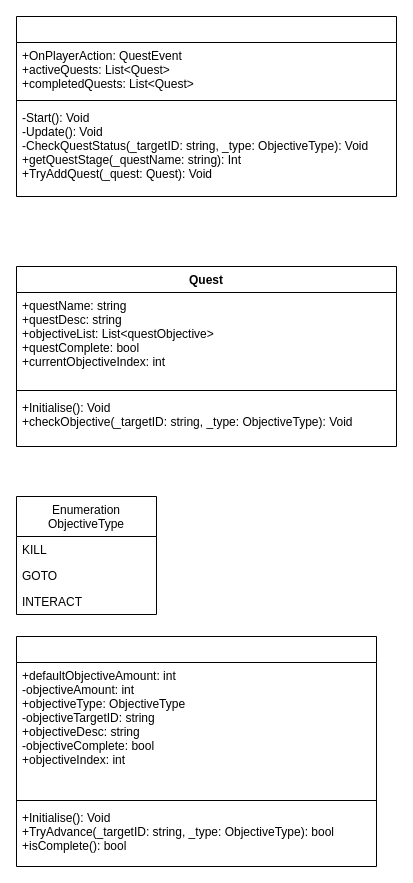
Image size: 413x883. Some labels were removed from this diagram. Each missing label, with the box of its shape:
QuestManager: (16, 16, 396, 196)
questObjective: (16, 636, 376, 866)
